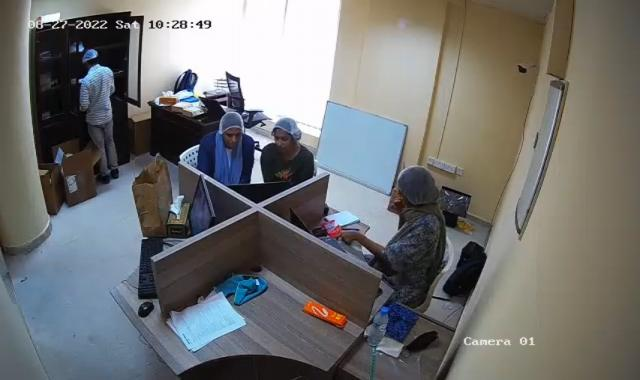hairnet: (392, 163, 434, 210), (268, 113, 305, 155), (216, 105, 251, 148), (75, 47, 102, 75)
